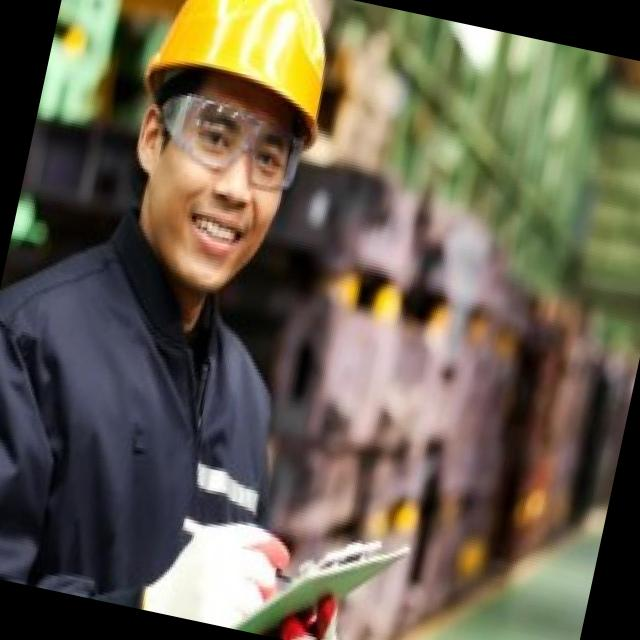Gloves: (141, 494, 295, 636)
Helmet: (140, 0, 368, 122)
